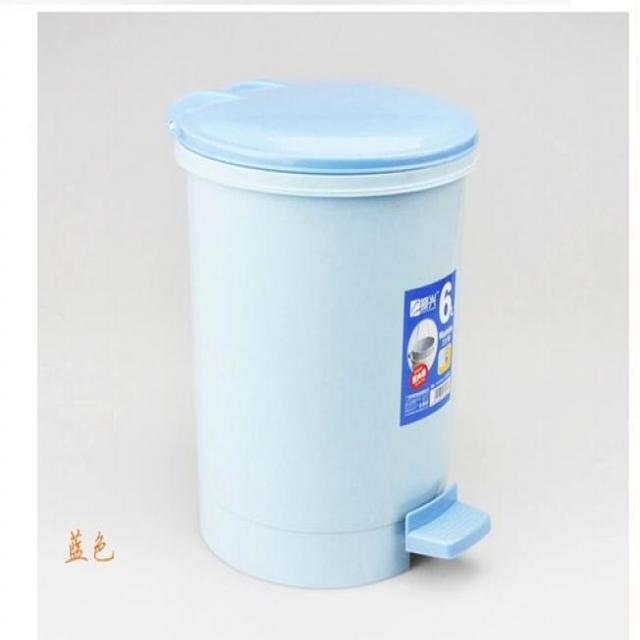Dustbin: (160, 71, 496, 597)
